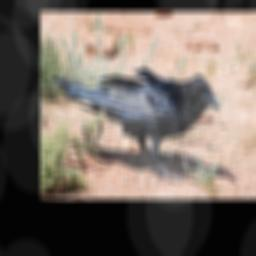Crow: (50, 67, 221, 185)
